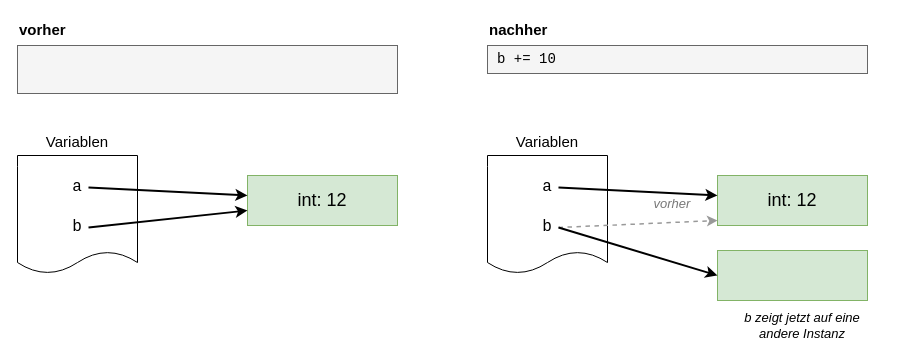
The diagram is 905 pixels wide and 362 high, and some of its shapes have lost their labels. Each missing label, with the centre of its shape:
"a = 12 b = a" goes at (x=207, y=69).
"int: 22" goes at (x=792, y=275).
